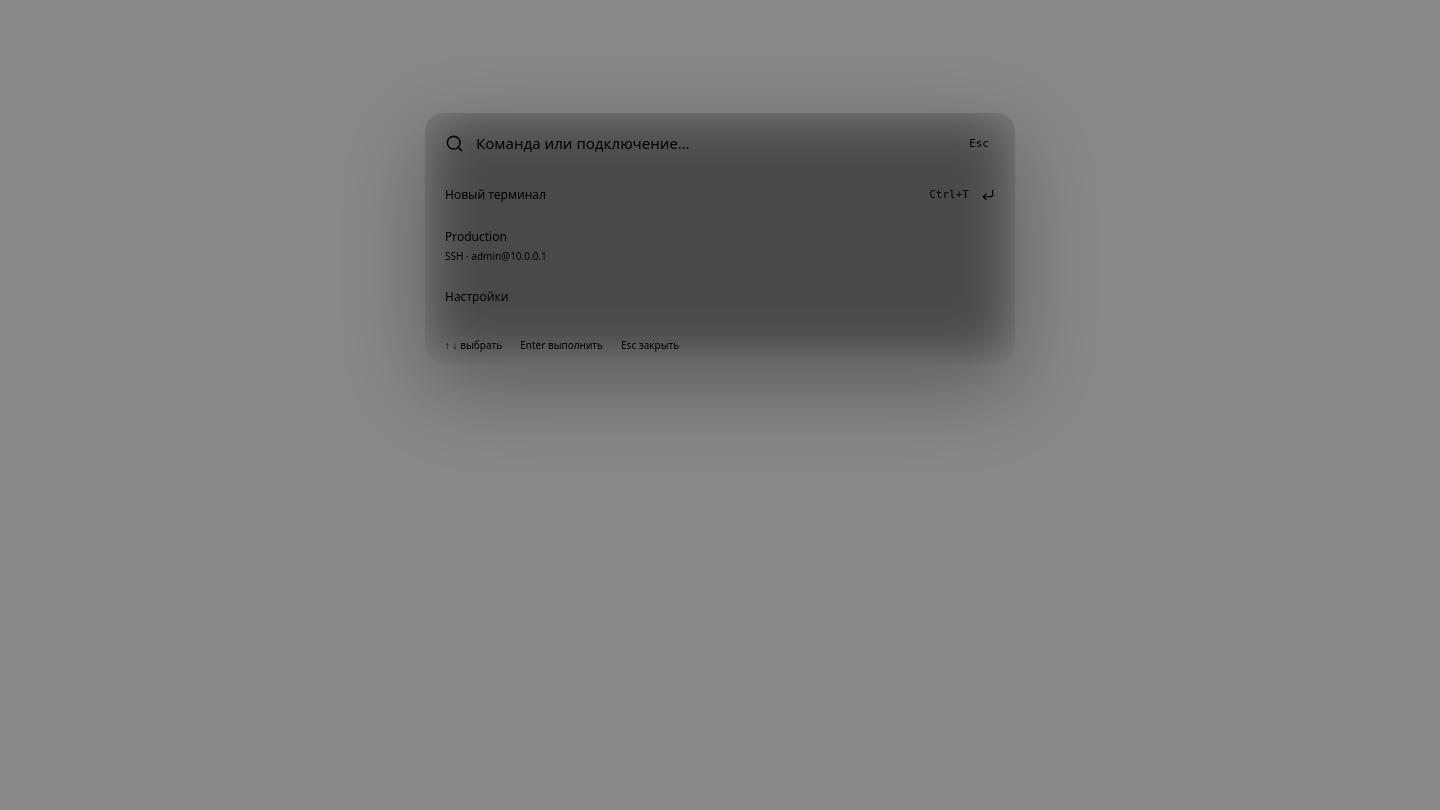
it: focuses search and finds commands using label and connection details
The width and height of the screenshot is (1440, 810).
Type "PROD admin" into the dropdown. click: [714, 143]
box: [476,130,951,156]
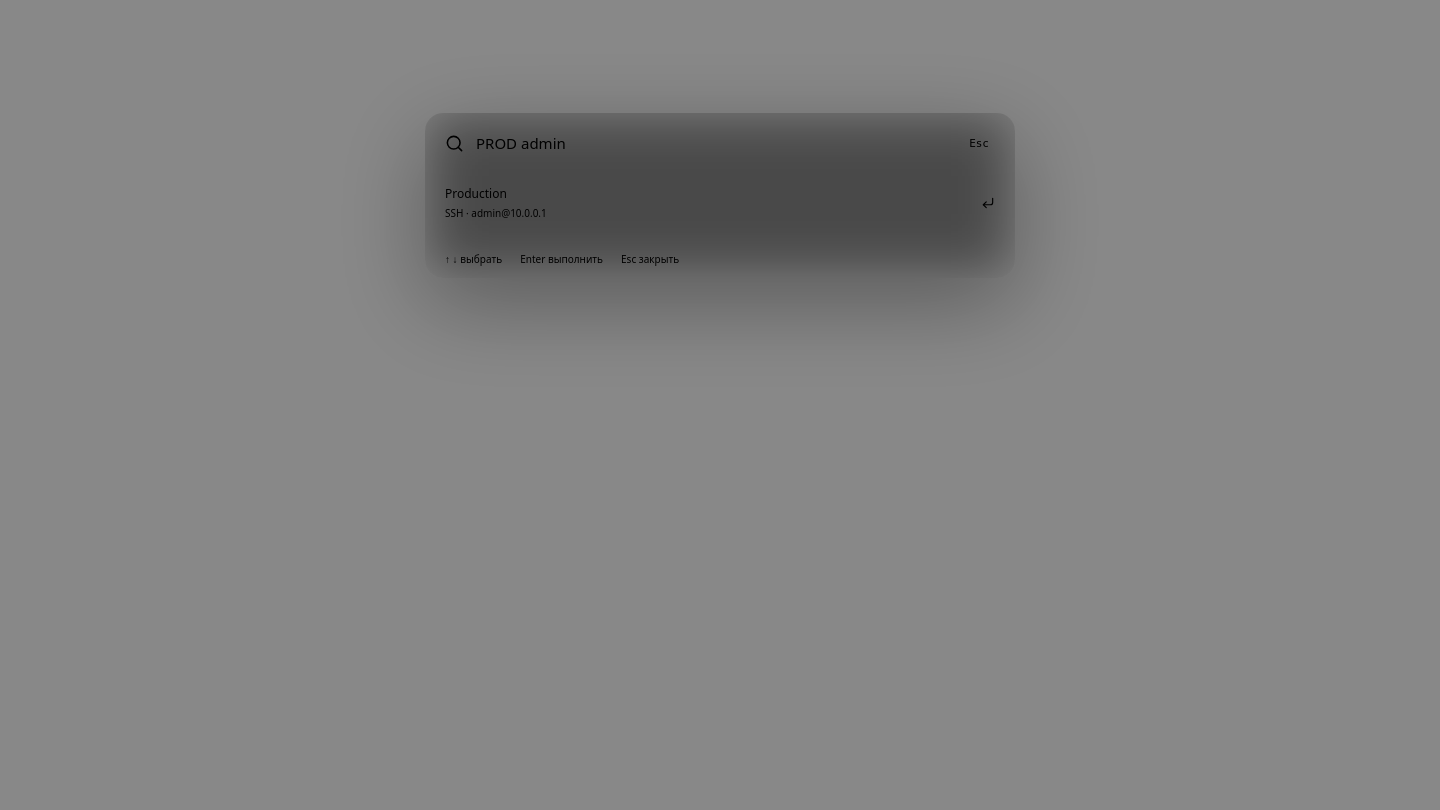
Expected: the option shows "Production", [445,185,995,220]
Now the number of options is 1, box [445,185,995,220]
